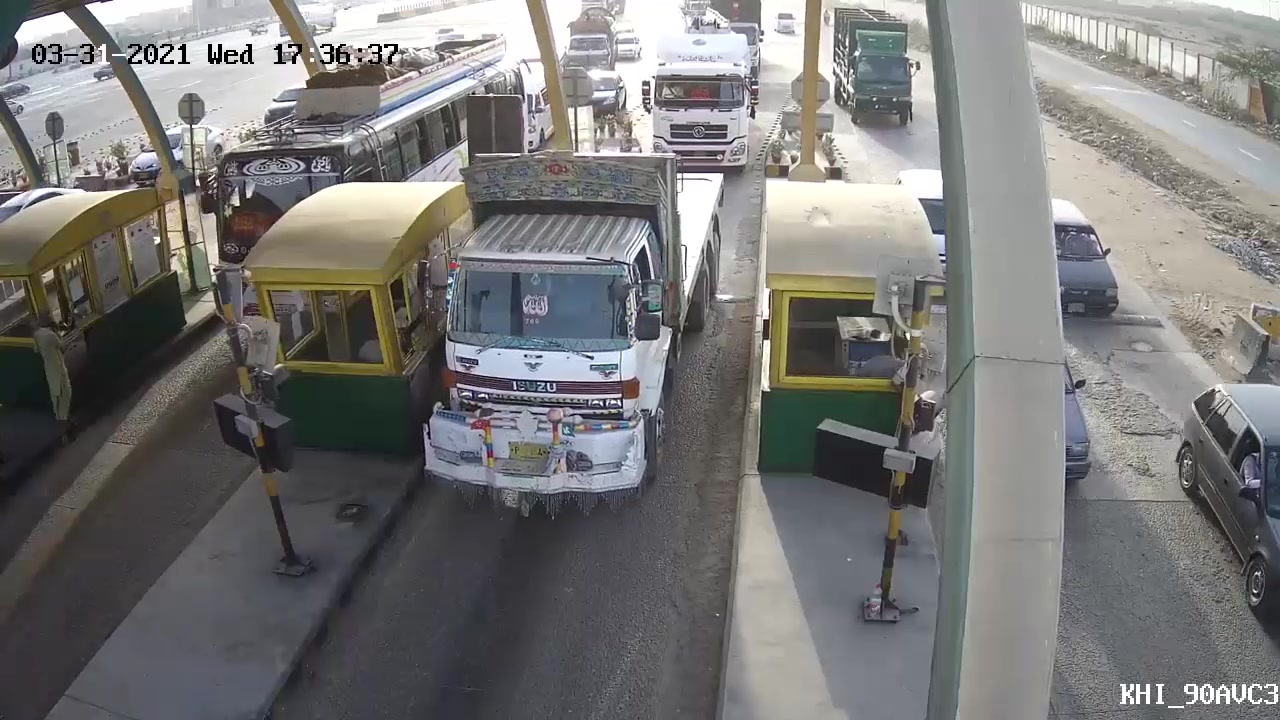F5: (416, 139, 730, 545)
